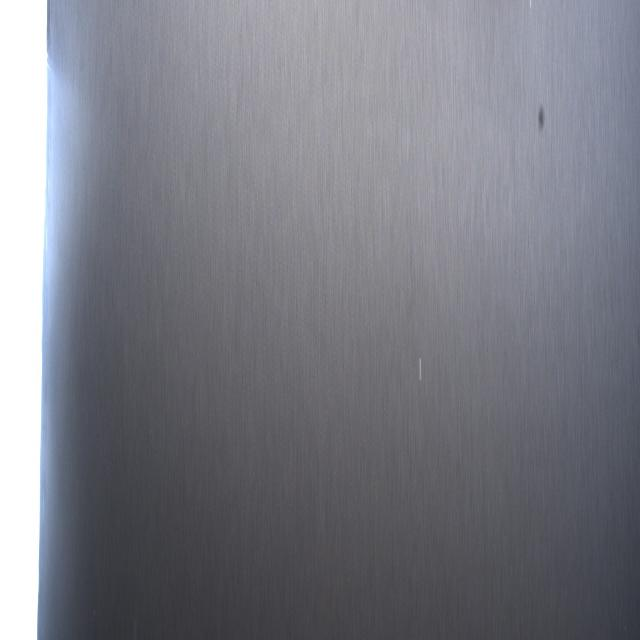whiteDefect: (417, 346, 422, 390)
